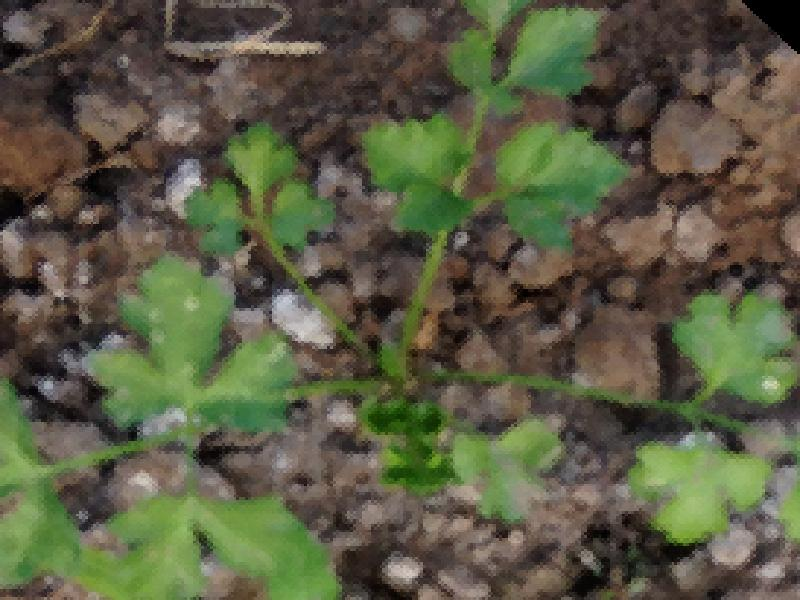radish: (0, 33, 800, 600)
